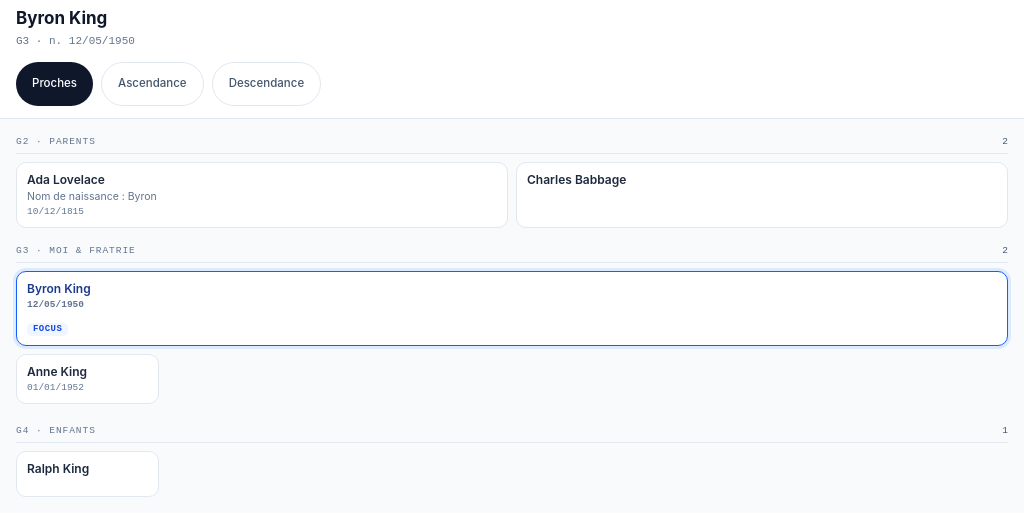
Scenario: FamilyTreeMobileList › filtre les branches et permet de changer de racine au clavier ou au toucher
Click the button "Ascendance" at x=152, y=84, box x1=101 y1=62 x2=204 y2=106
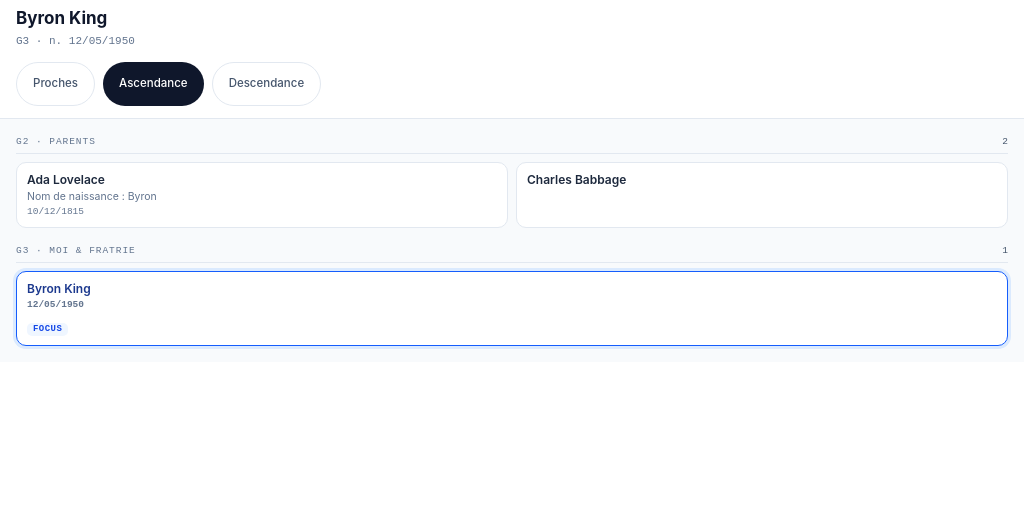
expect the element with test id "mobile-generation--1" is shown: met, box x1=16 y1=135 x2=1008 y2=228
expect the element with test id "mobile-generation-1" is gone: met
Click the button "Descendance" at x=266, y=84, box x1=212 y1=62 x2=321 y2=106
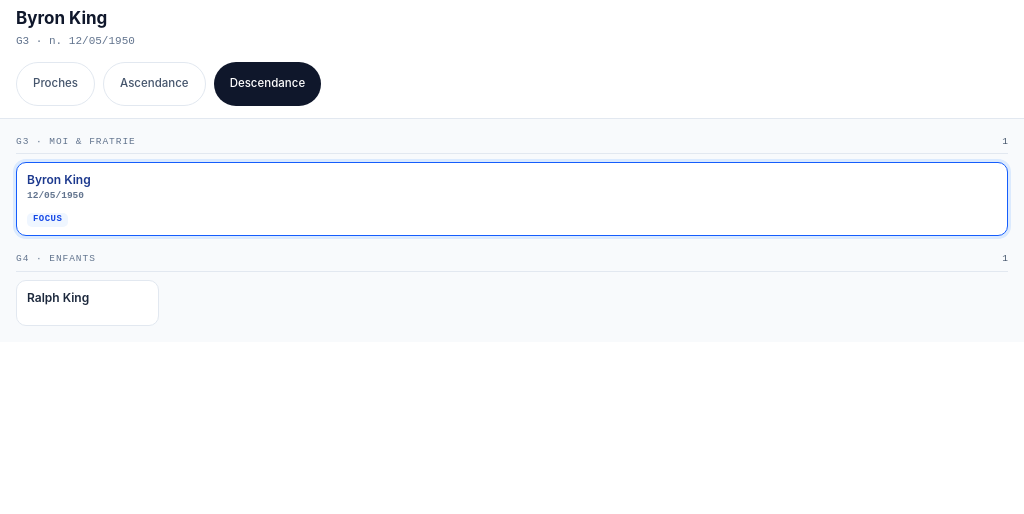
expect the element with test id "mobile-generation--1" is gone: met
expect the element with test id "mobile-generation-1" is shown: met, box x1=16 y1=252 x2=1008 y2=326
